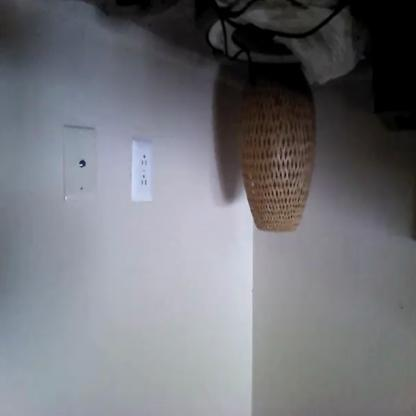OUTLET: (131, 140, 153, 202)
